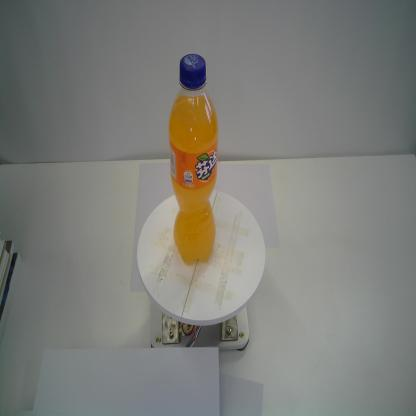Drink: (168, 52, 219, 267)
